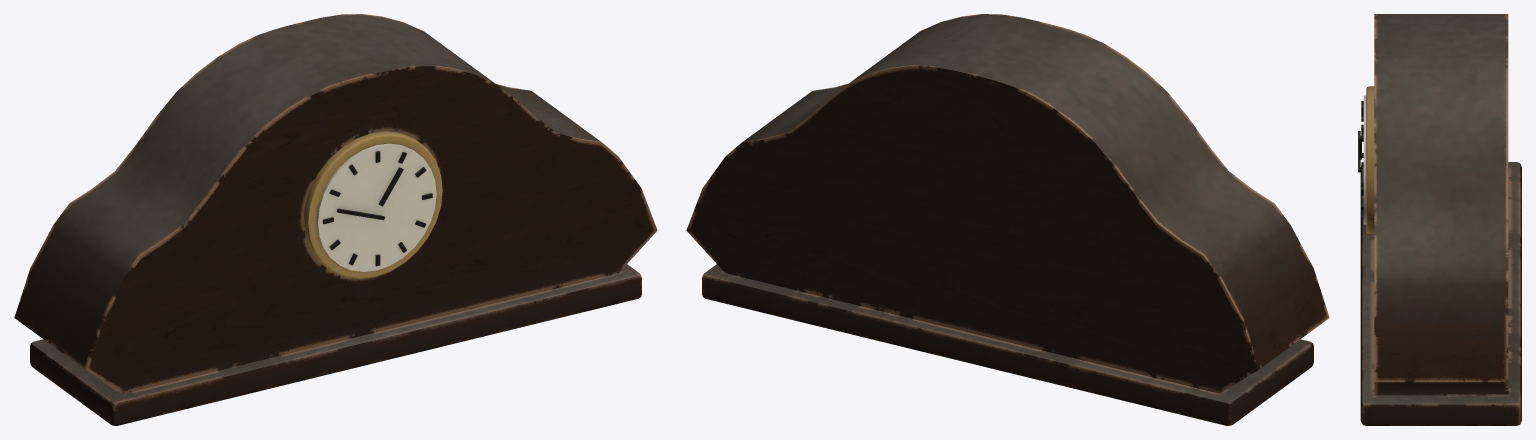
The model's file is mantel_clock.glb.
3 renders of one model, left to right at view 1: azimuth 30°, elevation 25°; view 2: azimuth 150°, elevation 25°; view 3: azimuth 270°, elevation 25°, orthographic. The views are drawn at different scales.
Parts seen in each view (by area): view 1: mantel_clock; view 2: mantel_clock; view 3: mantel_clock.
Part boxes in pixels (bbox=[...]): mantel_clock: bbox=[14, 14, 657, 425]; mantel_clock: bbox=[686, 14, 1329, 425]; mantel_clock: bbox=[1358, 14, 1521, 425].
Size of the model in its own units: 0.463 by 0.2272 by 0.122.
Materials: 1 (1 with a texture image).
